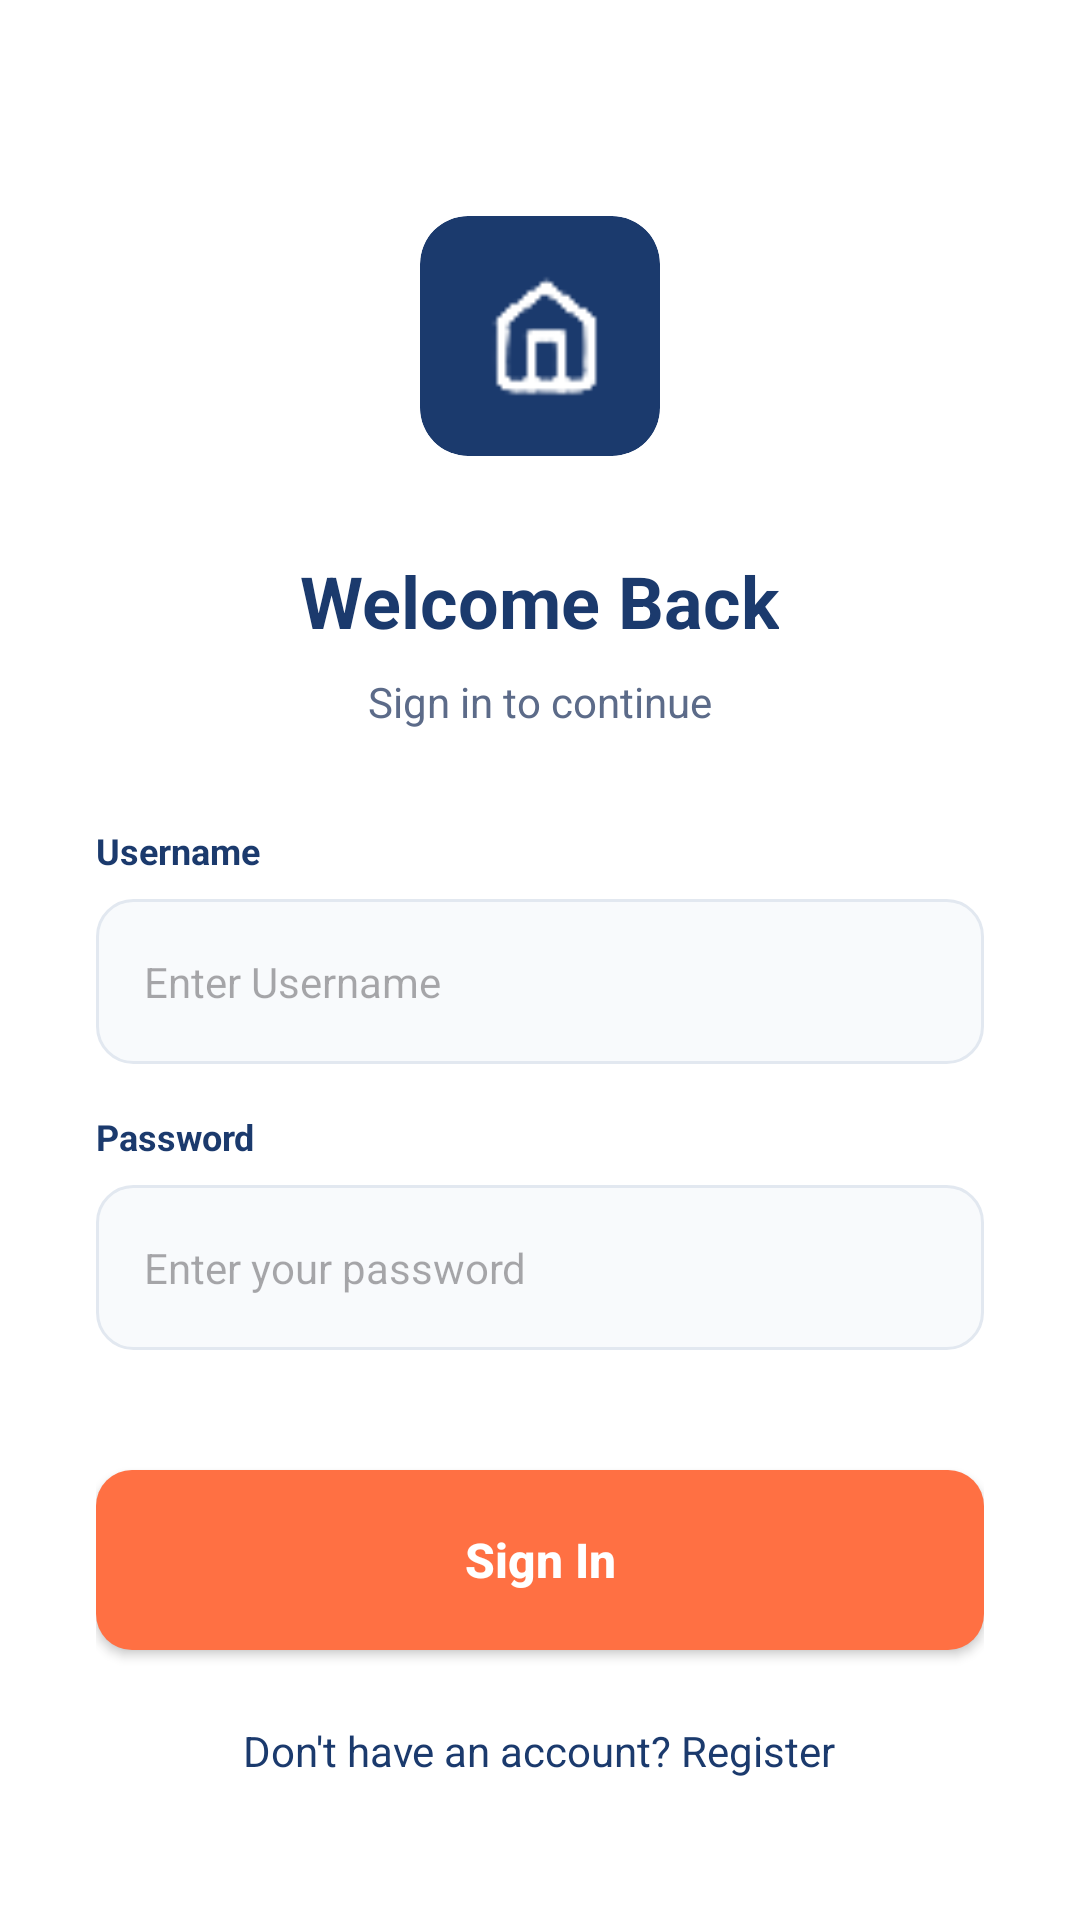

Where icons sit on this 1080 × 1920 app screen, as (x1, y1, x2, y2):
home: (494, 278, 597, 395)
